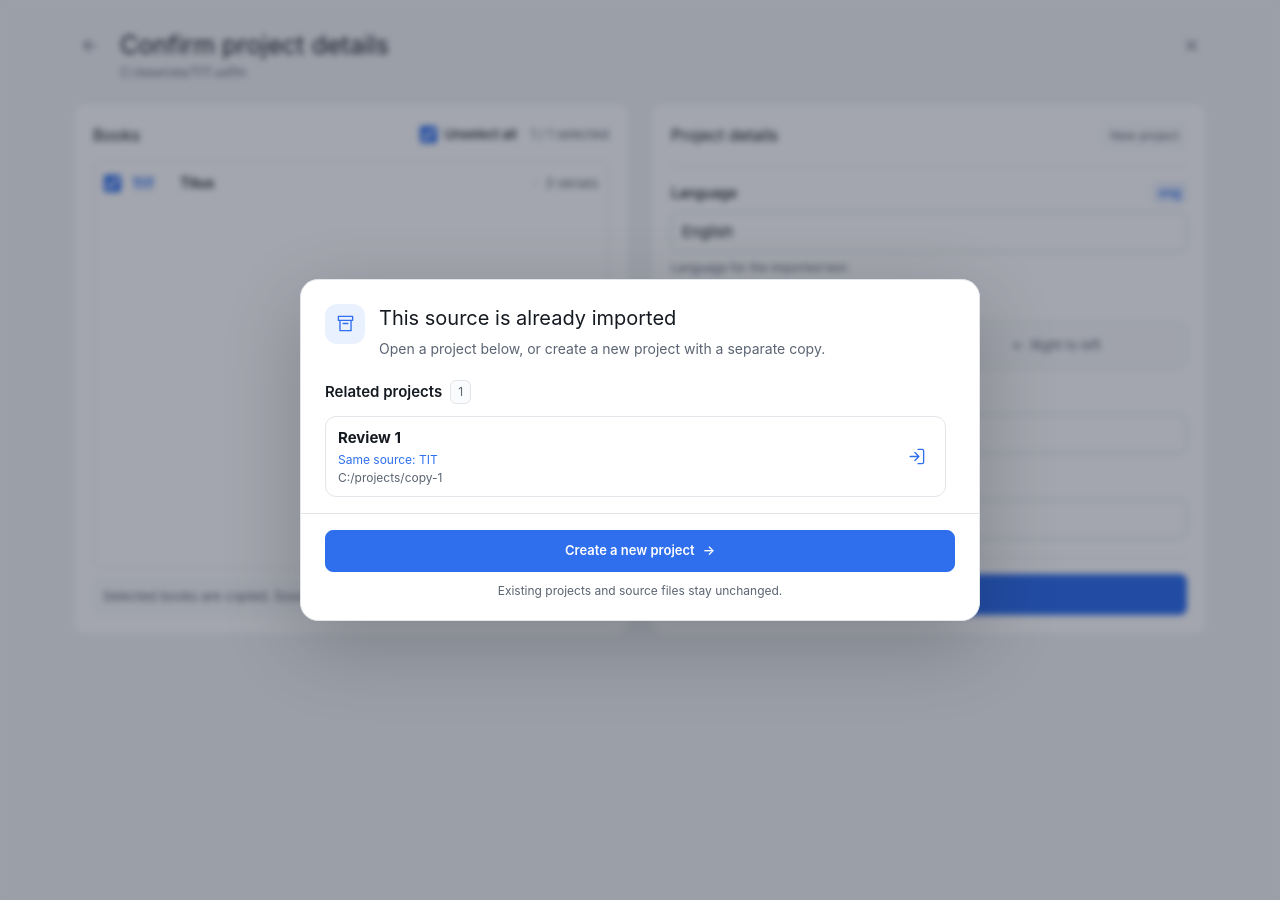
Scenario: duplicate import choices (#407) › does not reuse consent when final validation finds a different related project
The image size is (1280, 900).
Expected: the heading "Confirm project details" is shown, [120,30,389,60]
Click the button "Create a new project →". click: (640, 551)
box: [325,530,955,572]
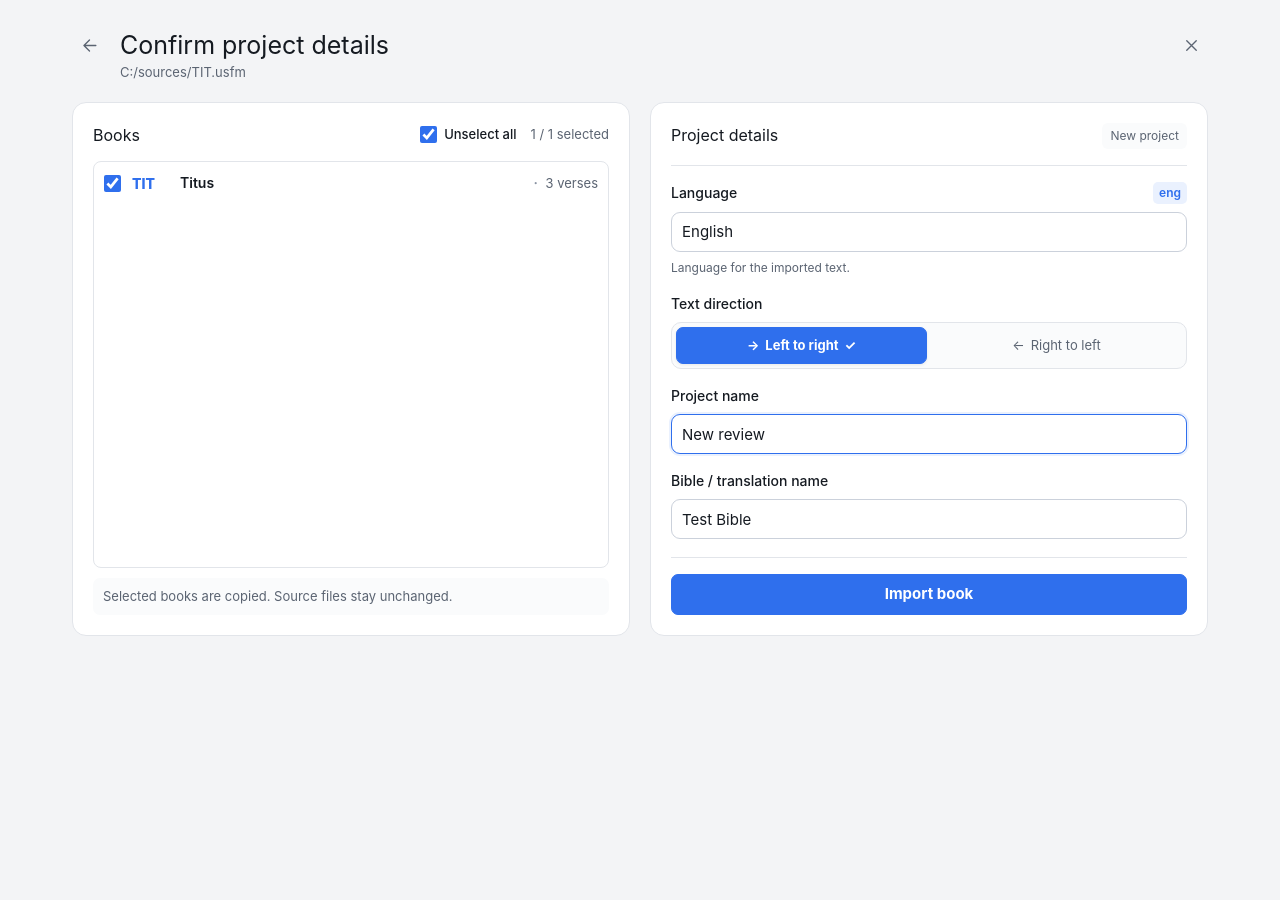
Click the button "Import book". click: (929, 594)
box: [671,574,1187,614]
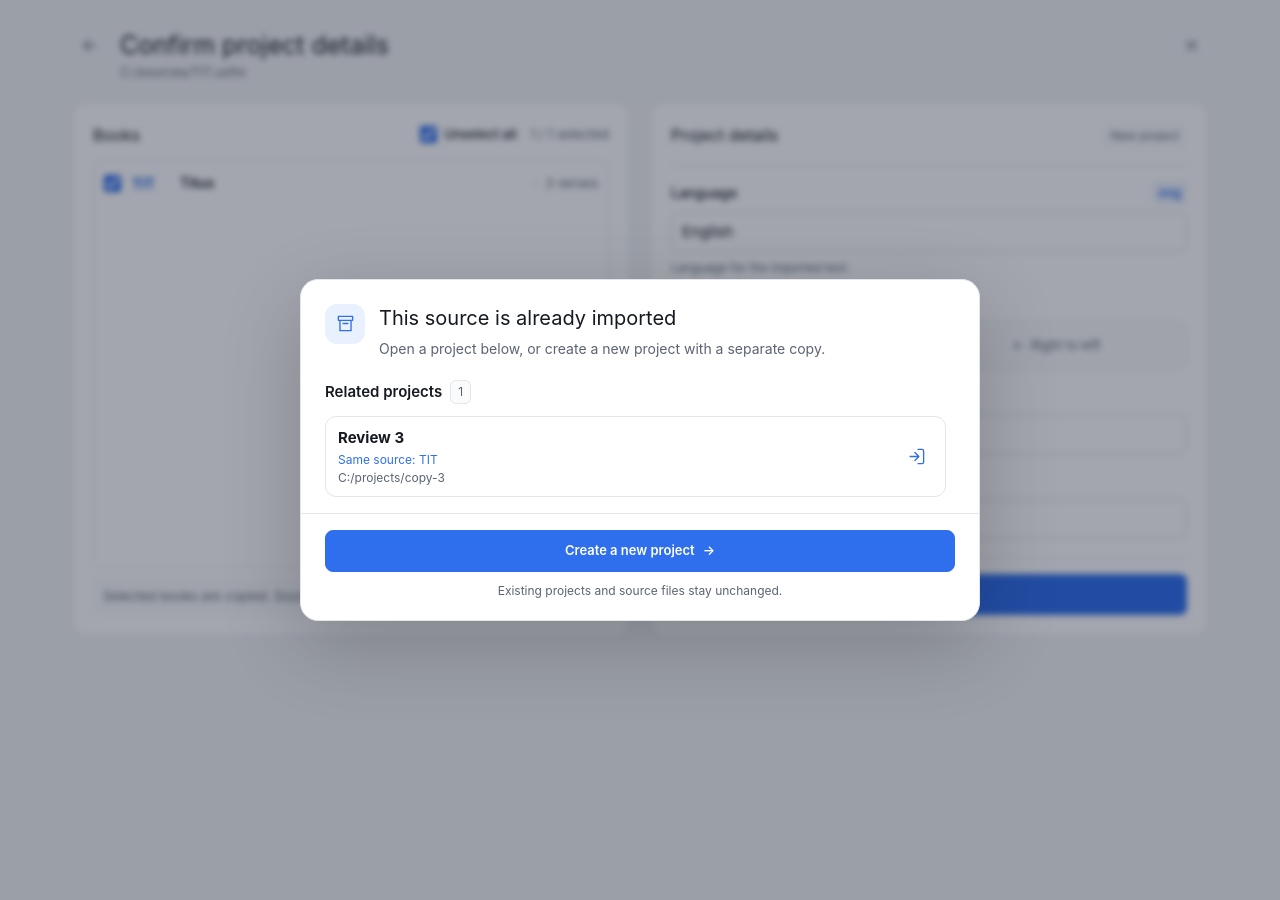
Expected: the dialog is shown, [300,279,980,621]
Expected: the button named "Open Review 3" is shown, [899,440,933,474]
